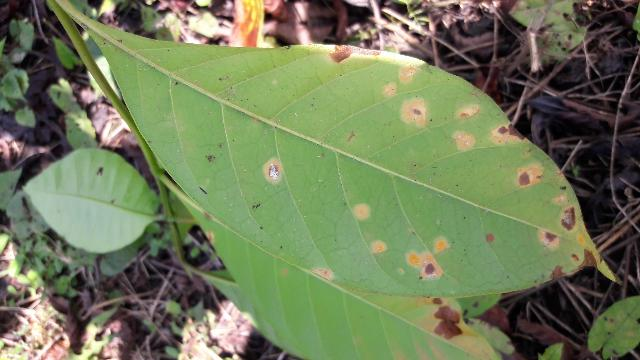rust_level_2: (84, 18, 608, 301)
